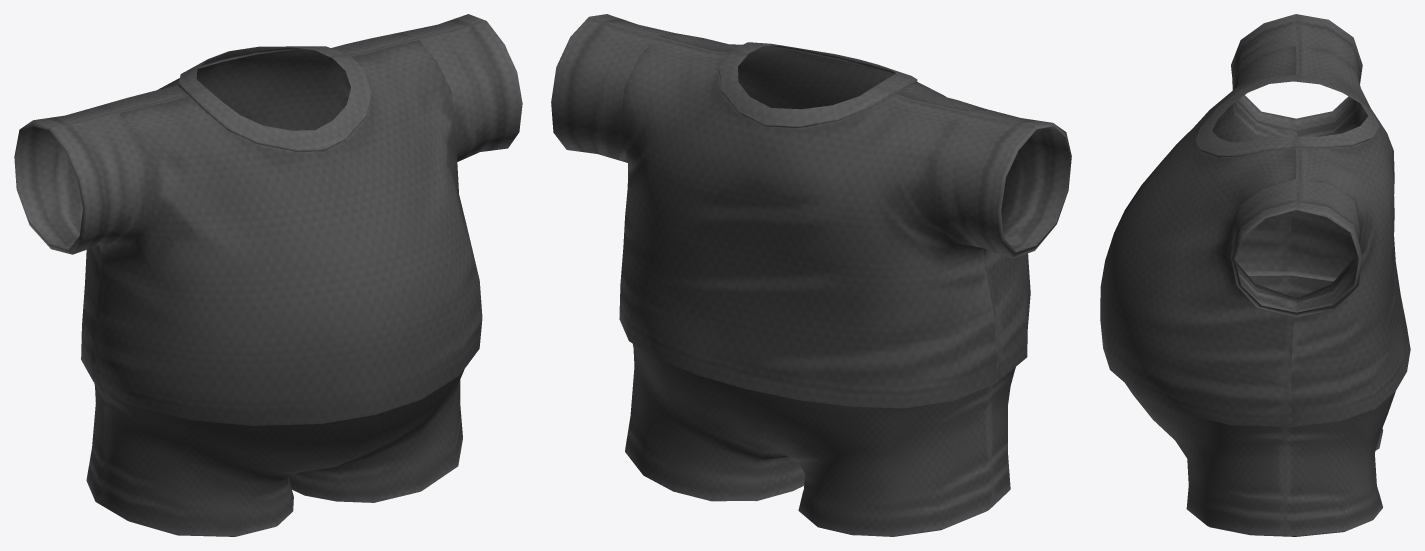
3 renders of one model, left to right at view 1: azimuth 30°, elevation 25°; view 2: azimuth 150°, elevation 25°; view 3: azimuth 270°, elevation 25°, orthographic. The views are drawn at different scales.
Visible parts, largest first — view 1: model_0_submesh_0; view 2: model_0_submesh_0; view 3: model_0_submesh_0.
Boxes of the visible parts, x1,y1,x2,y2 form: model_0_submesh_0: (14, 14, 522, 536); model_0_submesh_0: (551, 14, 1071, 536); model_0_submesh_0: (1100, 14, 1410, 536).
Size of the model in its own units: 0.4655 by 0.4093 by 0.3147.
